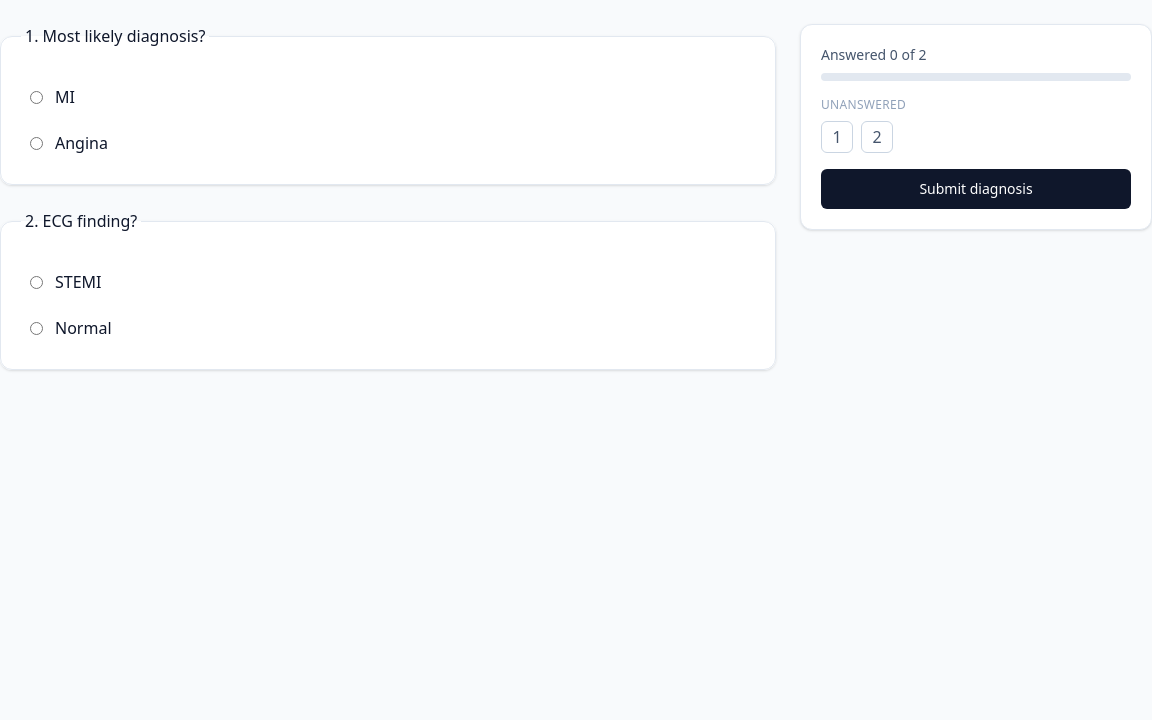
CaseRunner › resets the attempt and unlocks the questions when the user retakes the case
Click the radio button labelled "MI" at (36, 97), box [30,90,43,104]
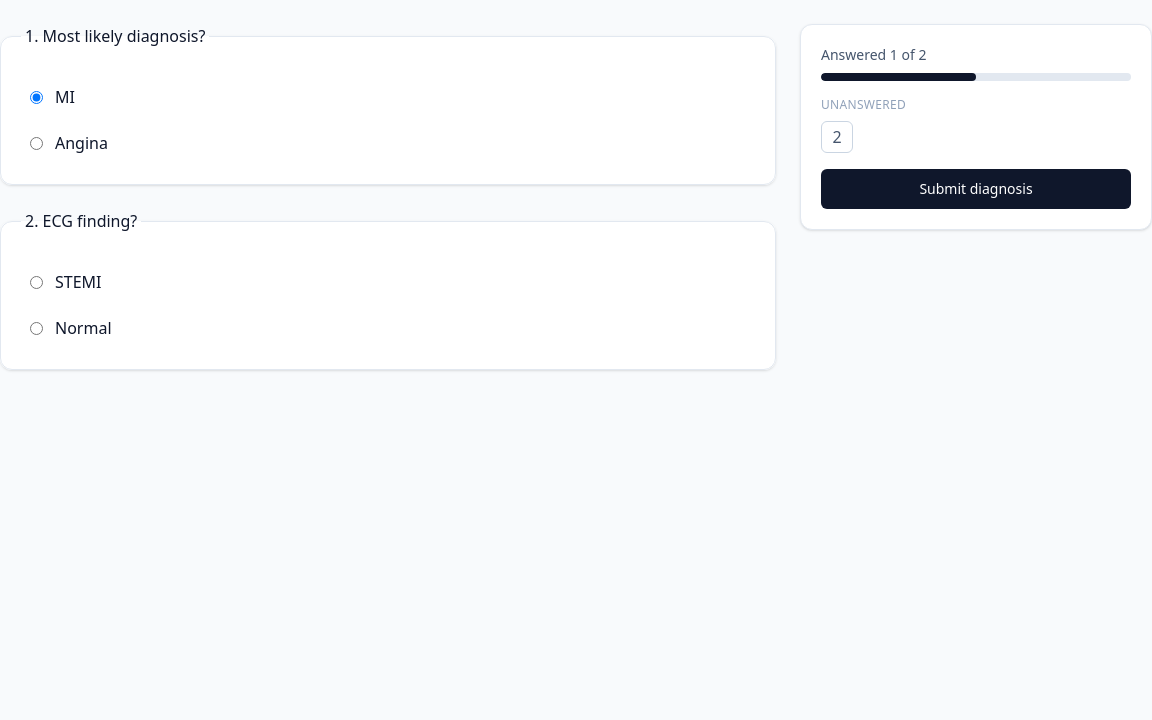
Click the radio button labelled "STEMI" at (36, 282), box [30,276,43,288]
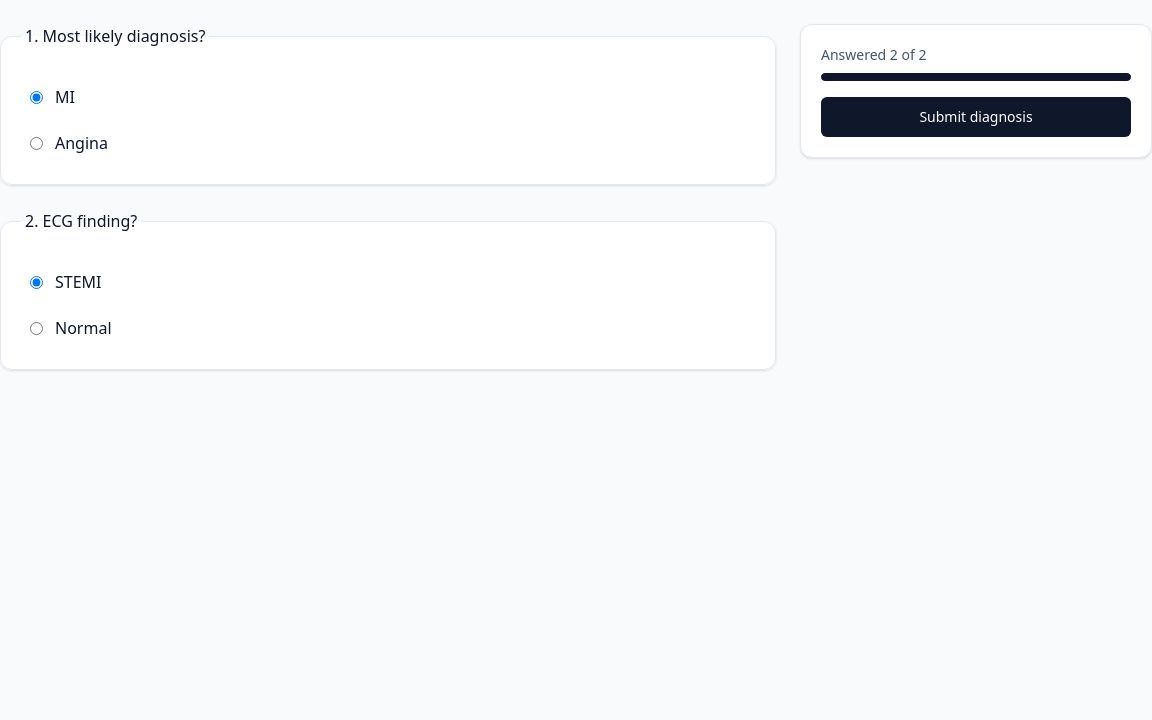
Submit the form from the button "Submit diagnosis", box [821,97,1131,137]
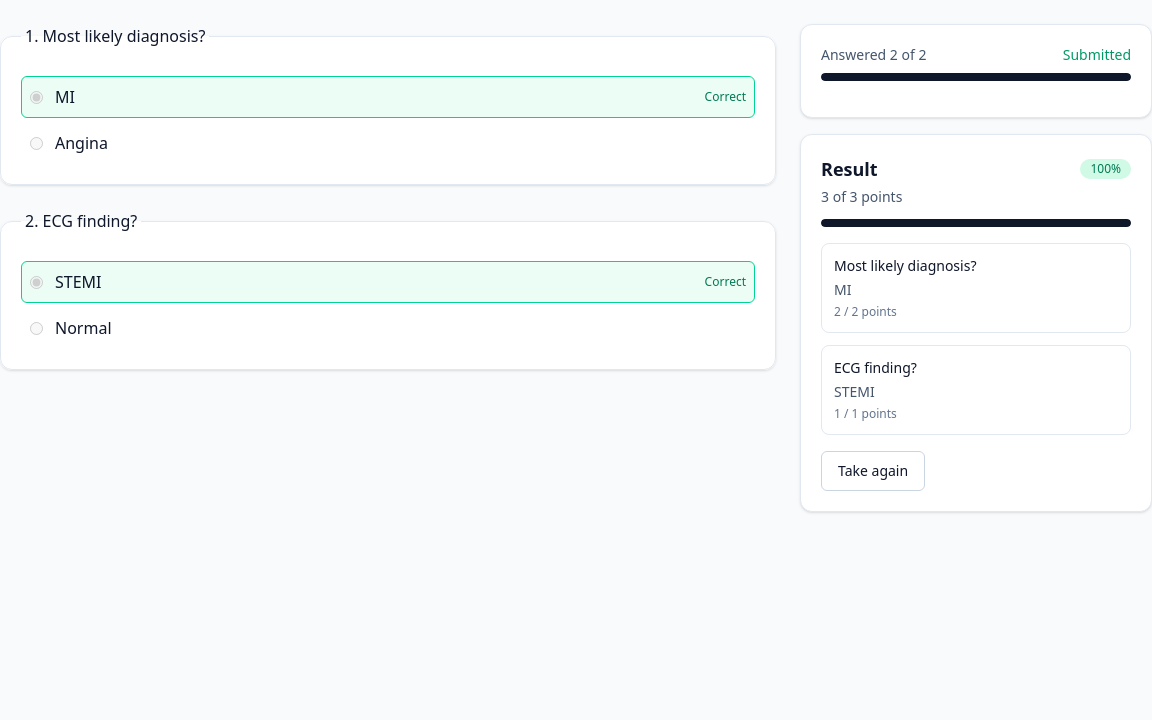
Result: the text "100%" is shown at [1080,159,1131,179]
Click the button "Take again" at (873, 471), box [821,451,925,491]
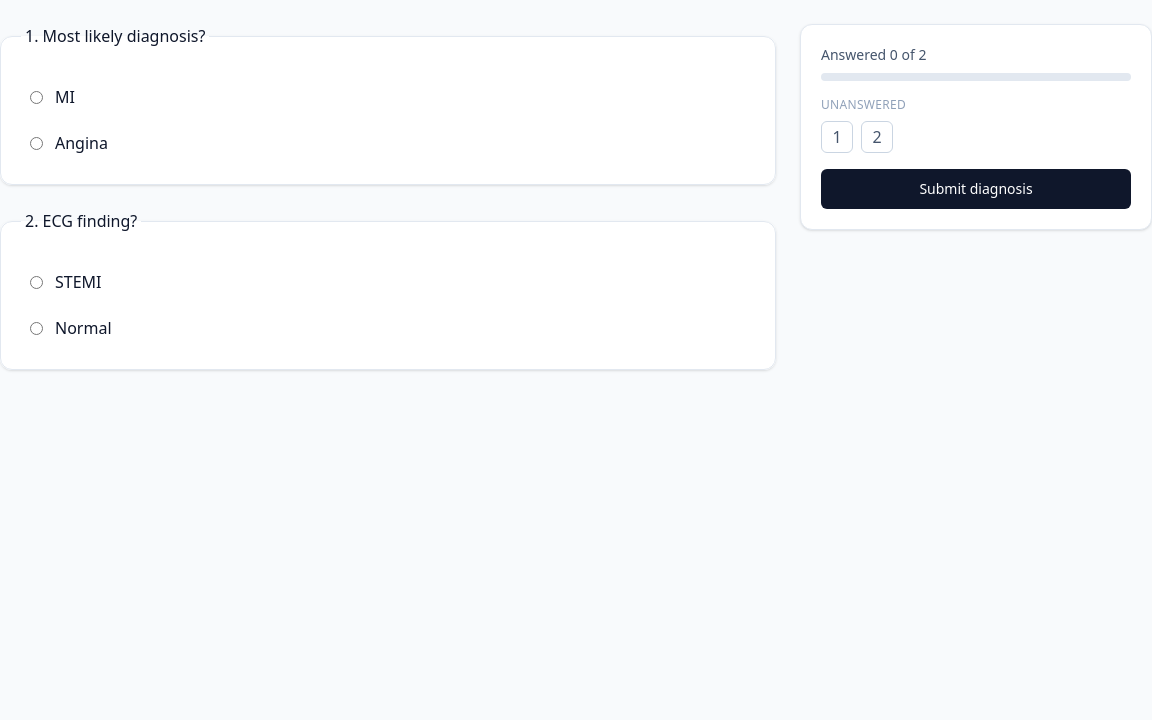
Result: the radio button labelled "MI" is not checked at [30,90,43,104]
Result: the text "100%" is gone
Result: the radio button labelled "MI" is enabled at [30,90,43,104]
